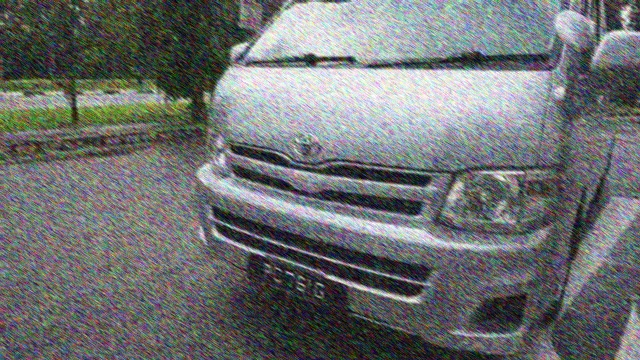van: (185, 0, 640, 352)
